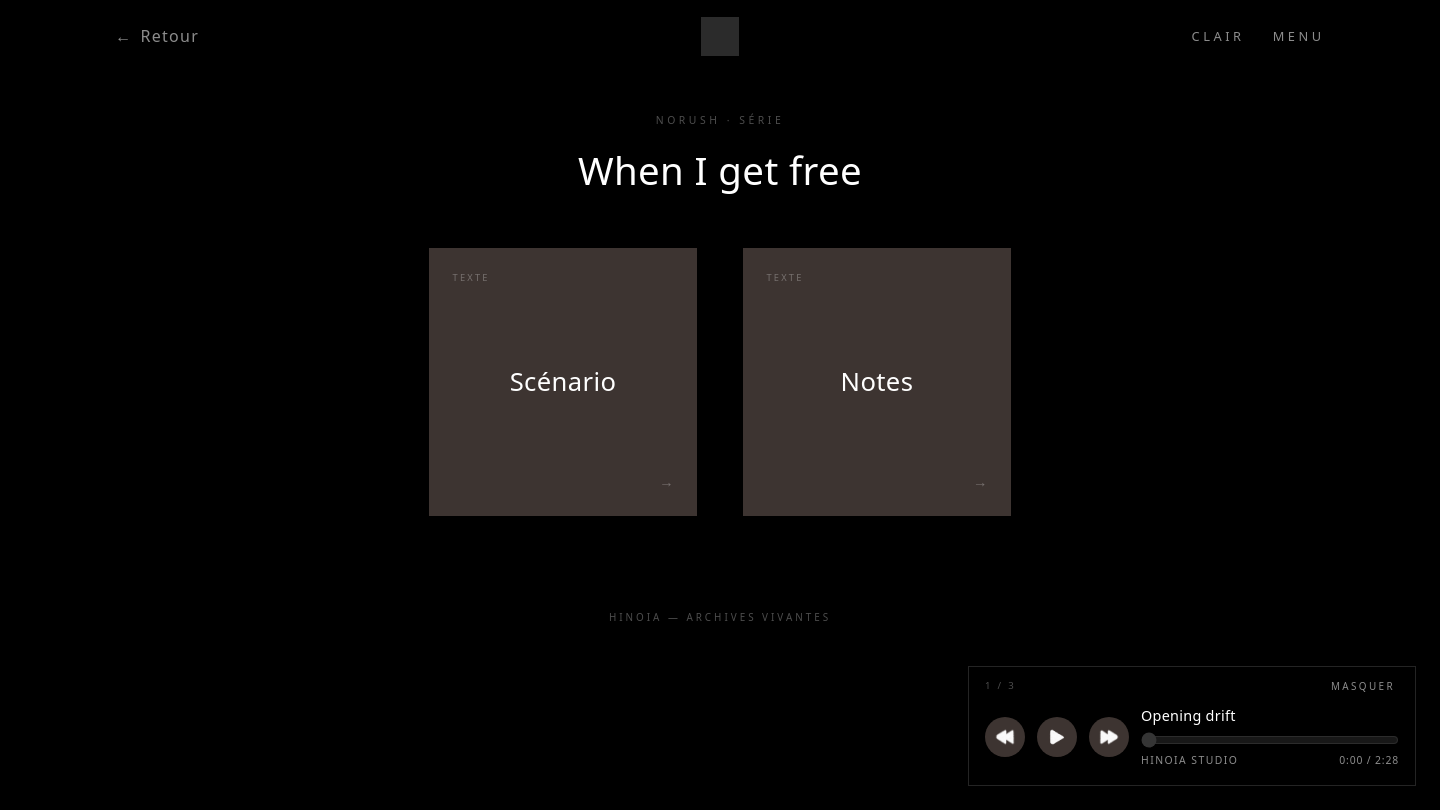
Test: lecteur de bande-son › enchaîne et revient sur chaque piste de la playlist
Expected: the button "Opening drift" is shown, [1141,705,1399,726]
Expected: the text "1 / 3" is shown, [985,679,1016,693]
Click the button named "Piste suivante": [1109, 737] box [1089,717,1129,757]
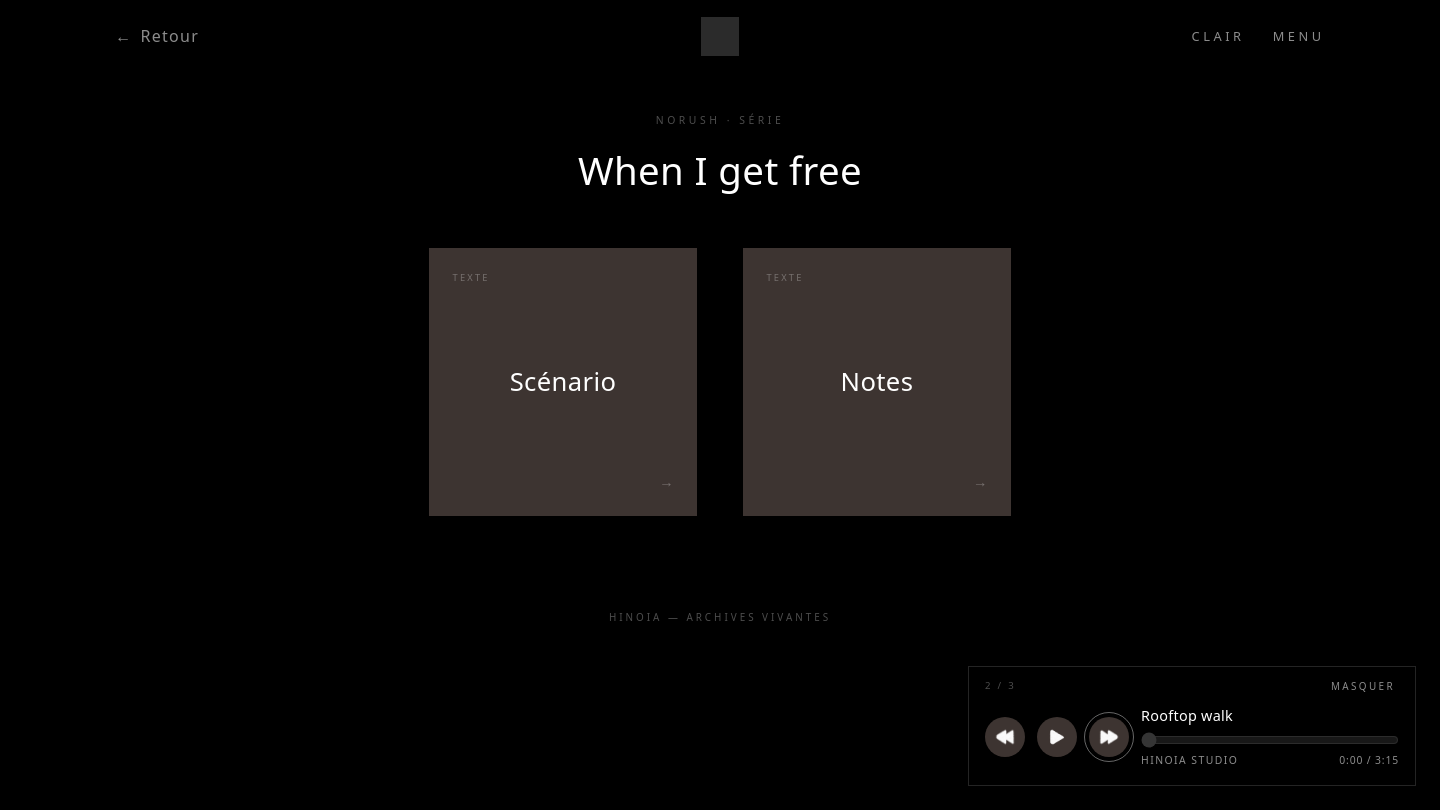
Expected: the button "Rooftop walk" is shown, [1141,705,1399,726]
Click the button named "Piste suivante": [1109, 737] box [1089,717,1129,757]
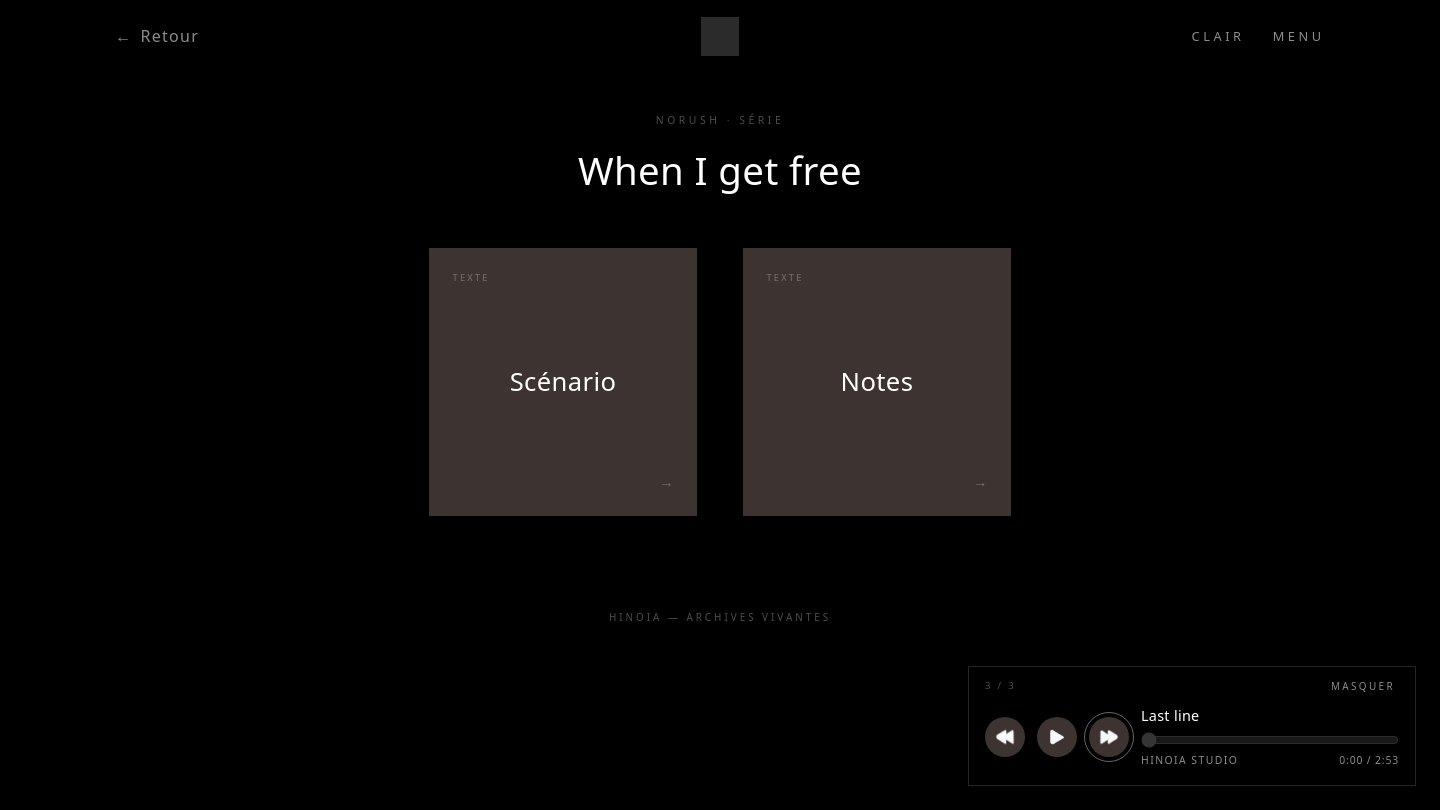
Expected: the button "Last line" is shown, [1141,705,1399,726]
// Boucle : après la dernière piste on revient à la première.
Click the button named "Piste suivante": [1109, 737] box [1089,717,1129,757]
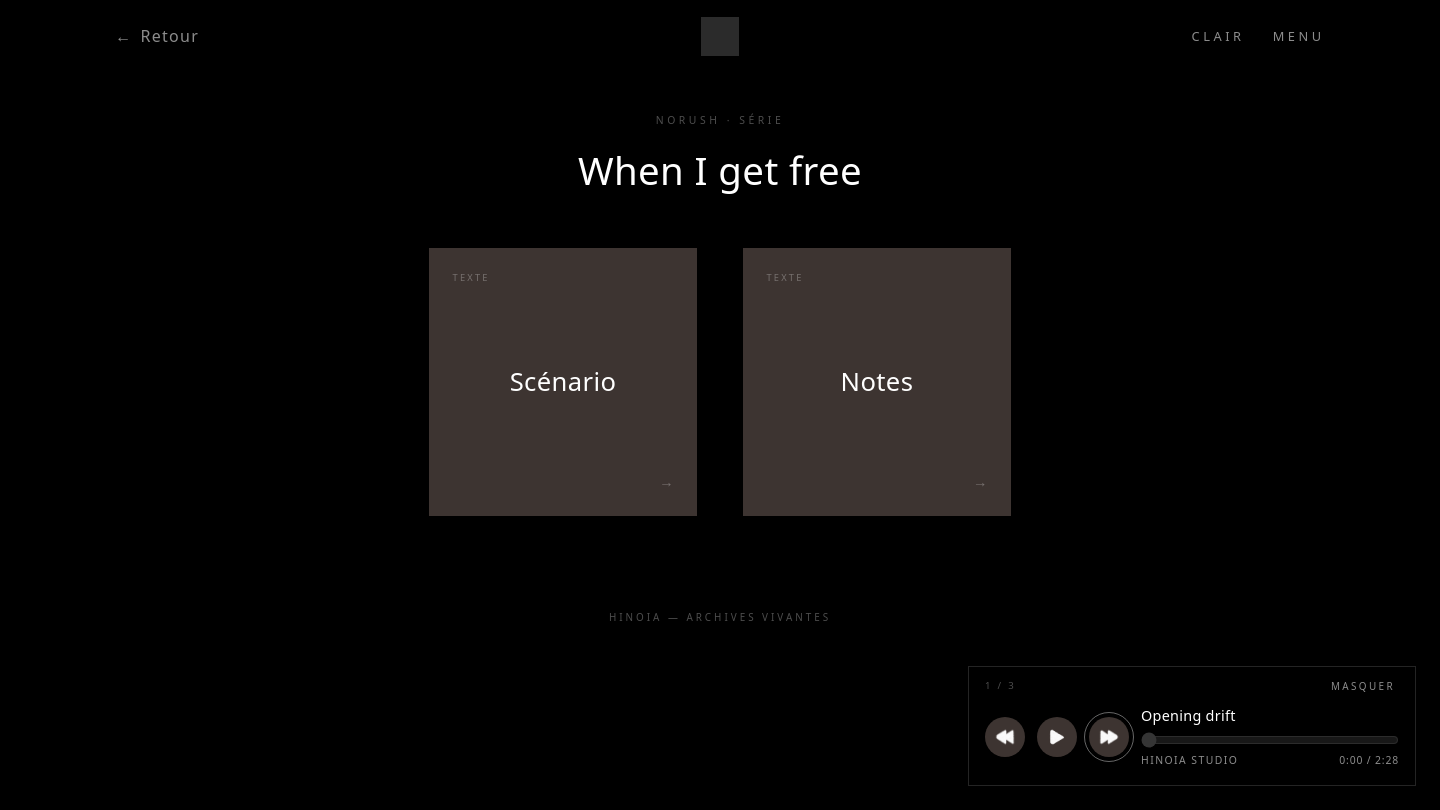
Expected: the button "Opening drift" is shown, [1141,705,1399,726]
Click the button named "Piste précédente": [1005, 737] box [985,717,1025,757]
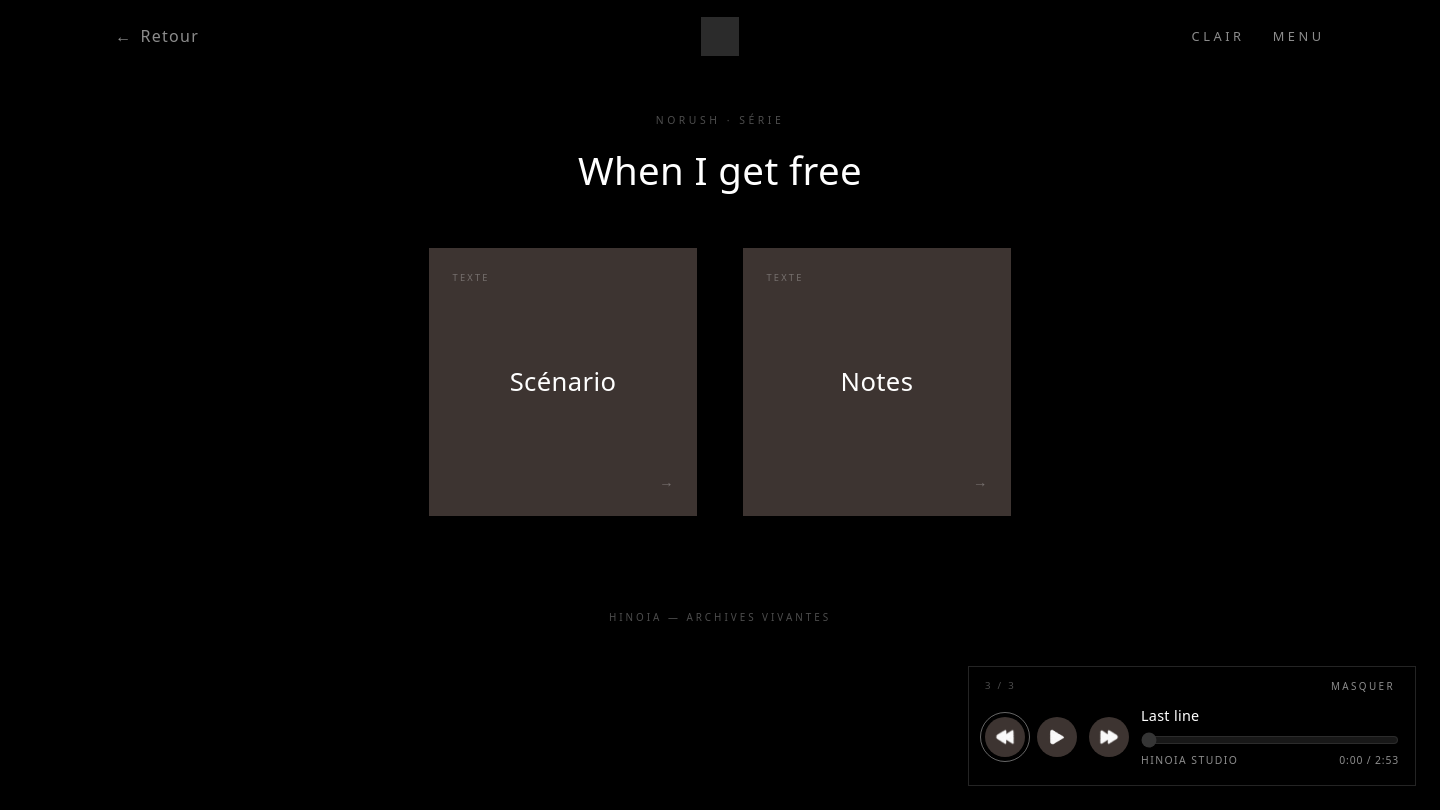
Expected: the button "Last line" is shown, [1141,705,1399,726]
Expected: the text "3 / 3" is shown, [985,679,1016,693]
